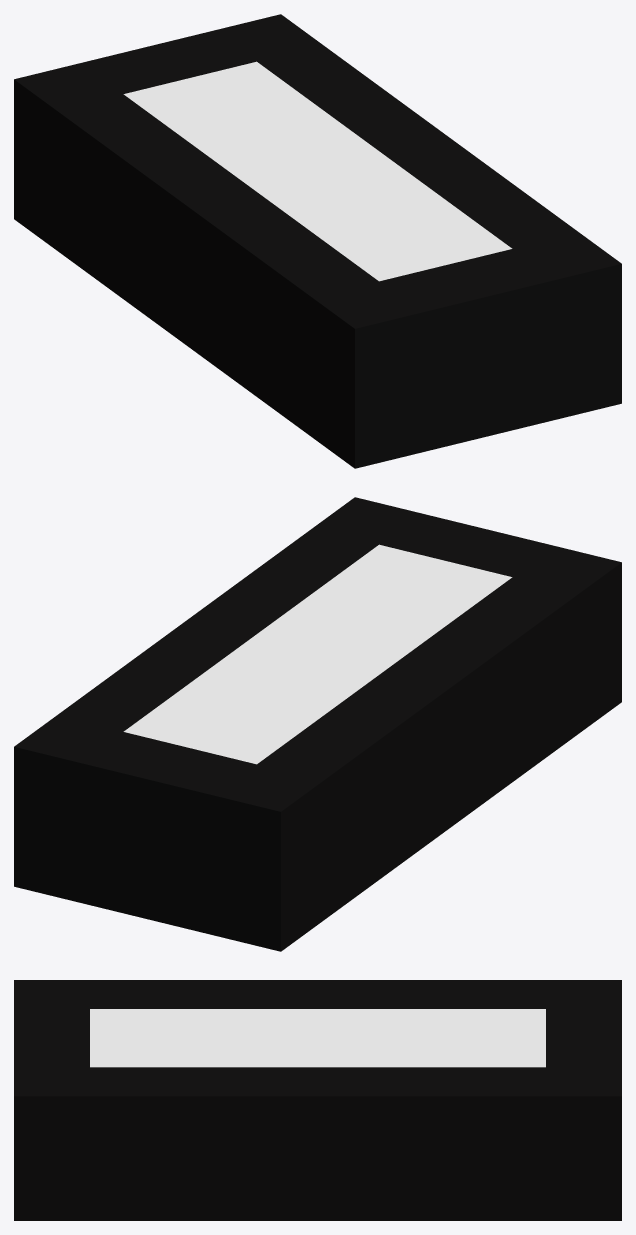
The model's file is Font_Number_1_01.fbx.
The picture shows the model from 3 angles, top to bottom: view 1: azimuth 30°, elevation 25°; view 2: azimuth 150°, elevation 25°; view 3: azimuth 270°, elevation 25°; orthographic projection. The views are drawn at different scales.
Visible parts, largest first — view 1: Font_Number_1_01; view 2: Font_Number_1_01; view 3: Font_Number_1_01.
Boxes of the visible parts, x1,y1,x2,y2 form: Font_Number_1_01: (14,14,621,468); Font_Number_1_01: (14,497,621,951); Font_Number_1_01: (14,980,621,1220).
Bounding box in the file's own units: 38.83 × 19.44 × 85.9.
